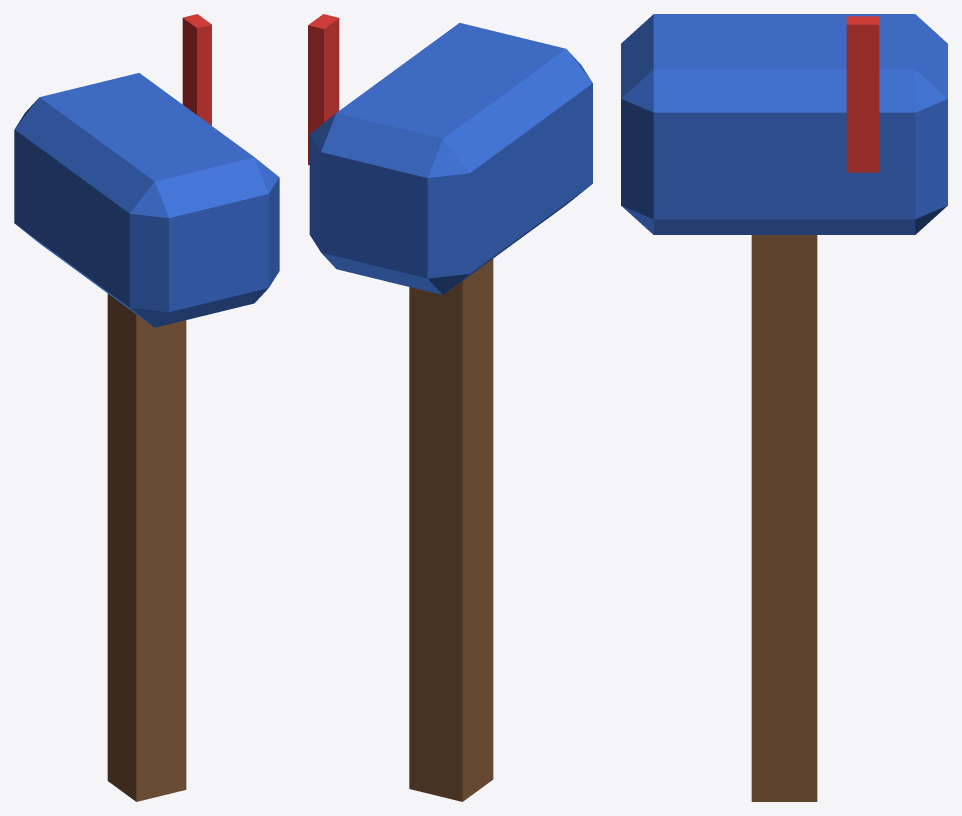
File: mailbox.glb
3 renders of one model, left to right at view 1: azimuth 30°, elevation 25°; view 2: azimuth 150°, elevation 25°; view 3: azimuth 270°, elevation 25°, orthographic. The views are drawn at different scales.
Parts seen in each view (by area): view 1: mailbox_body; view 2: mailbox_body; view 3: mailbox_body.
Part boxes in pixels (x1,y1,x2,y2): mailbox_body: [14, 14, 279, 801]; mailbox_body: [308, 14, 592, 801]; mailbox_body: [621, 14, 947, 801].
Size of the model in its own units: 0.335 by 1.38 by 0.5.
